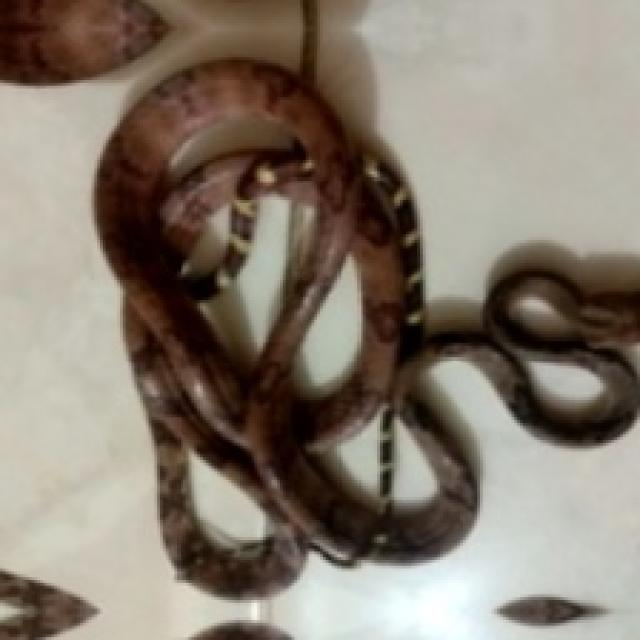dog-toothed cat snake: (95, 59, 640, 597)
